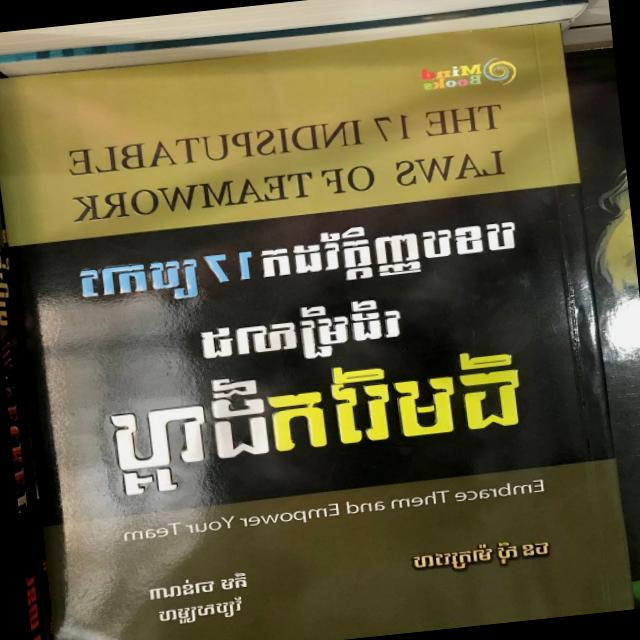1: (405, 528, 561, 577), (143, 566, 256, 607)
125: (79, 207, 526, 310)
Yolov11kh: (106, 343, 528, 500), (194, 292, 409, 377), (155, 593, 265, 627)
